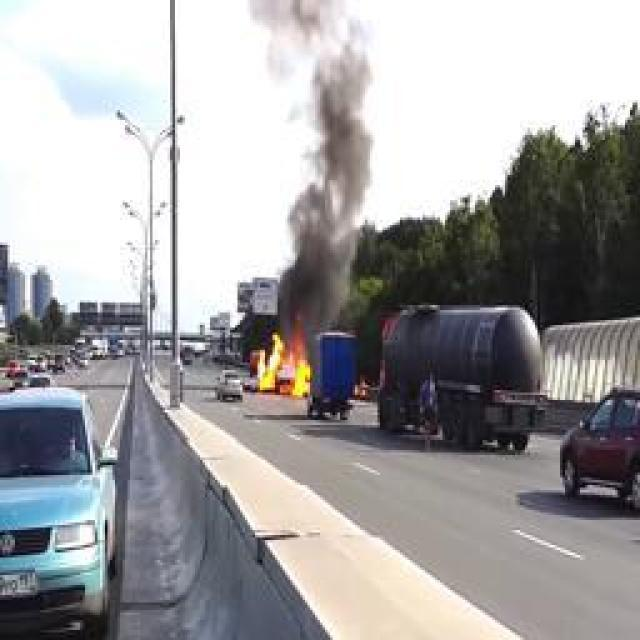Fire: (255, 325, 310, 395)
Smoke: (237, 1, 374, 321)
